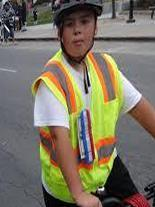Vest: (32, 51, 119, 192)
